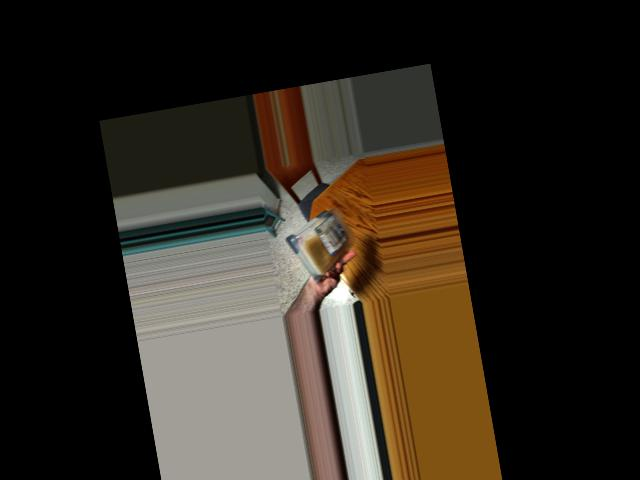cheese: (285, 202, 352, 282)
